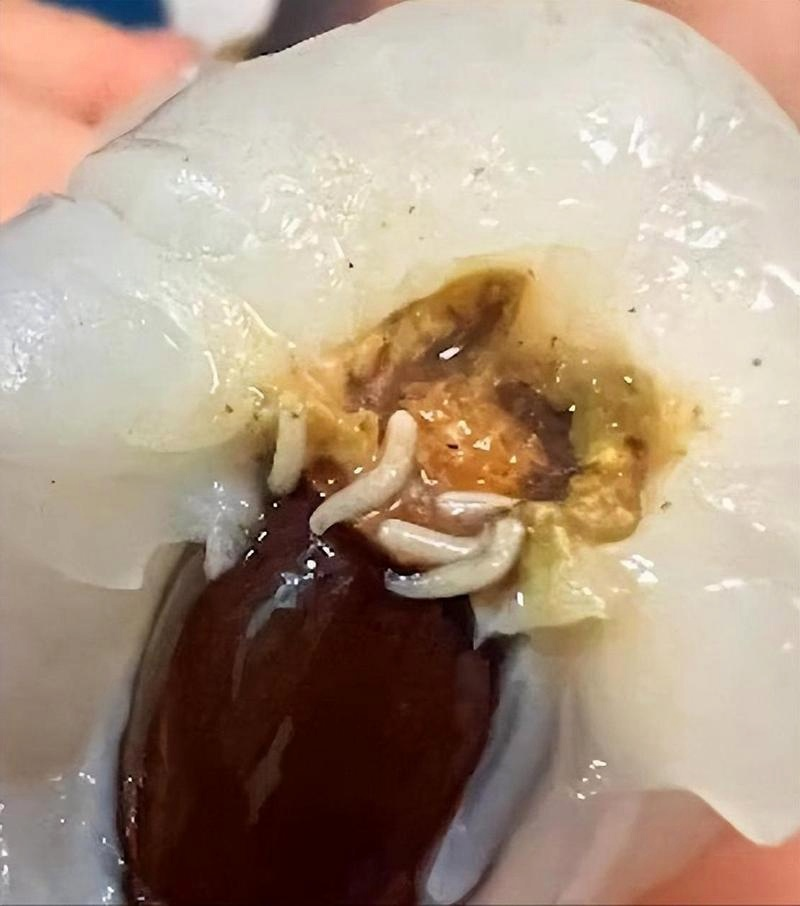Borer: (262, 371, 528, 611)
